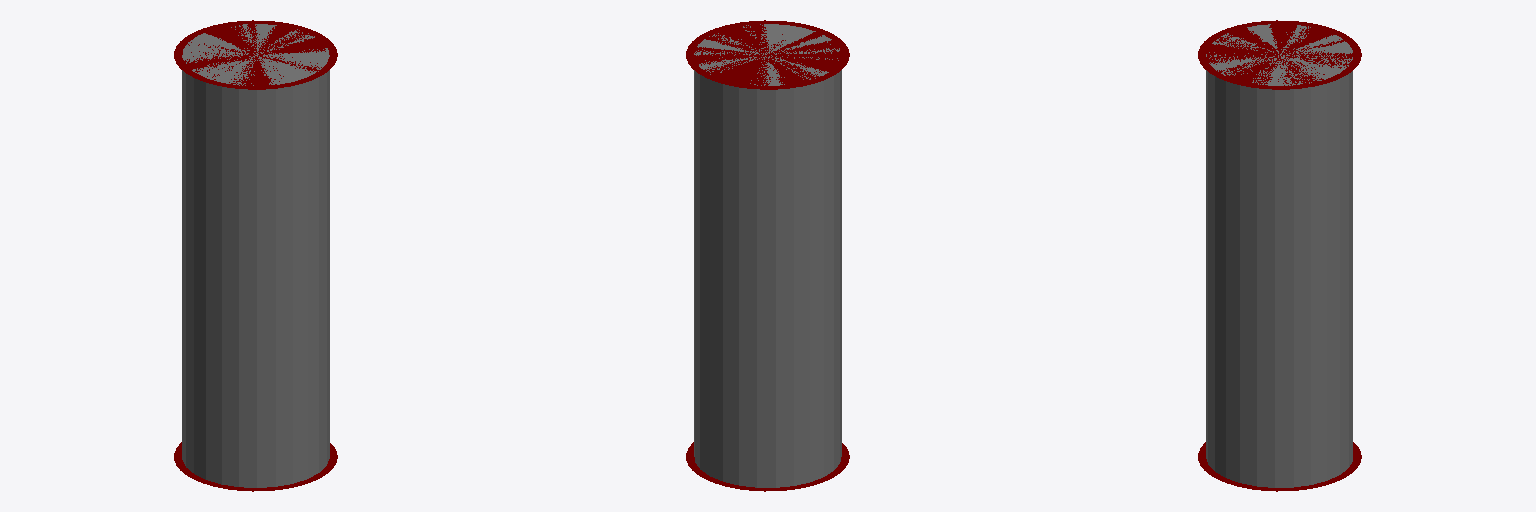
robot.urdf — straight_link-m.SLDASM:
<?xml version="1.0" encoding="utf-8"?>
<!-- This URDF was automatically created by SolidWorks to URDF Exporter! Originally created by [author] ([email redacted]) 
     Commit Version: 1.6.0-4-g7f85cfe  Build Version: 1.6.7995.38578
     For more information, please see http://wiki.ros.org/sw_urdf_exporter -->
<robot
  name="straight_link-m.SLDASM">
  <link
    name="sl_out_1">
    <inertial>
      <origin
        xyz="-6.9389E-18 6.9588E-18 -0.1"
        rpy="0 0 0" />
      <mass
        value="0.69813" />
      <inertia
        ixx="0.002521"
        ixy="-2.2588E-20"
        ixz="-1.1688E-20"
        iyy="0.002521"
        iyz="4.5175E-20"
        izz="0.00038785" />
    </inertial>
    <visual>
      <origin
        xyz="0 0 0"
        rpy="0 0 0" />
      <geometry>
        <mesh
          filename="package://straight_link-m.SLDASM/meshes/sl_out_1.STL" />
      </geometry>
      <material
        name="red">
        <color
          rgba="0.5 0 0 1" />
      </material>
    </visual>
    <collision>
      <origin
        xyz="0 0 0"
        rpy="0 0 0" />
      <geometry>
        <mesh
          filename="package://straight_link-m.SLDASM/meshes/sl_out_1.STL" />
      </geometry>
    </collision>
  </link>
  <link
    name="sl_body">
    <inertial>
      <origin
        xyz="-6.9389E-18 6.9588E-18 -0.1"
        rpy="0 0 0" />
      <mass
        value="0.69813" />
      <inertia
        ixx="0.002521"
        ixy="-2.2588E-20"
        ixz="8.6001E-35"
        iyy="0.002521"
        iyz="4.5175E-20"
        izz="0.00038785" />
    </inertial>
    <visual>
      <origin
        xyz="0 0 0"
        rpy="0 0 0" />
      <geometry>
        <mesh
          filename="package://straight_link-m.SLDASM/meshes/sl_body.STL" />
      </geometry>
      <material
        name="body">
        <color
          rgba="0.5 0.5 0.5 1" />
      </material>
    </visual>
    <collision>
      <origin
        xyz="0 0 0"
        rpy="0 0 0" />
      <geometry>
        <mesh
          filename="package://straight_link-m.SLDASM/meshes/sl_body.STL" />
      </geometry>
    </collision>
  </link>
  <joint
    name="sl_medium_1"
    type="fixed">
    <origin
      xyz="0 0 0"
      rpy="0 0 0" />
    <parent
      link="sl_out_1" />
    <child
      link="sl_body" />
    <axis
      xyz="0 0 0" />
  </joint>
  <link
    name="sl_out_2">
    <inertial>
      <origin
        xyz="0 -3.0763E-18 -0.1"
        rpy="0 0 0" />
      <mass
        value="0.69813" />
      <inertia
        ixx="0.002521"
        ixy="2.2588E-20"
        ixz="1.1688E-20"
        iyy="0.002521"
        iyz="4.5175E-20"
        izz="0.00038785" />
    </inertial>
    <visual>
      <origin
        xyz="0 0 0"
        rpy="0 0 0" />
      <geometry>
        <mesh
          filename="package://straight_link-m.SLDASM/meshes/sl_out_2.STL" />
      </geometry>
      <material
        name="red">
        <color
          rgba="0.5 0 0 1" />
      </material>
    </visual>
    <collision>
      <origin
        xyz="0 0 0"
        rpy="0 0 0" />
      <geometry>
        <mesh
          filename="package://straight_link-m.SLDASM/meshes/sl_out_2.STL" />
      </geometry>
    </collision>
  </link>
  <joint
    name="sl_medium_2"
    type="fixed">
    <origin
      xyz="0 0 -0.2"
      rpy="3.14159265358979 0 0" />
    <parent
      link="sl_body" />
    <child
      link="sl_out_2" />
    <axis
      xyz="0 0 0" />
  </joint>
</robot>

--- What the picture shows (computed from the rendered views, not written in the file) ---
Views: 3 orthographic renders of the robot side by side, from view 1: azimuth 30°, elevation 25°; view 2: azimuth 150°, elevation 25°; view 3: azimuth 270°, elevation 25°.
Model straight_link-m.SLDASM with 3 links and 2 joints (2 fixed), rooted at sl_out_1, posed every joint at zero.
Visible links, largest first — view 1: sl_body, sl_out_1, sl_out_2; view 2: sl_body, sl_out_1, sl_out_2; view 3: sl_body, sl_out_1, sl_out_2.
Boxes of the visible links, box(x1,y1,x2,y2) form: sl_body: box(182, 24, 329, 487); sl_out_1: box(174, 20, 337, 89); sl_out_2: box(174, 442, 337, 491); sl_body: box(694, 24, 841, 487); sl_out_1: box(686, 20, 849, 89); sl_out_2: box(686, 442, 849, 491); sl_body: box(1206, 24, 1352, 487); sl_out_1: box(1198, 20, 1361, 89); sl_out_2: box(1198, 442, 1361, 491).
Bounding box of the posed robot: 0.0739 × 0.0739 × 0.2 m (x, y, z).
3 mesh visuals loaded from 3 distinct referenced files (3 binary STL).